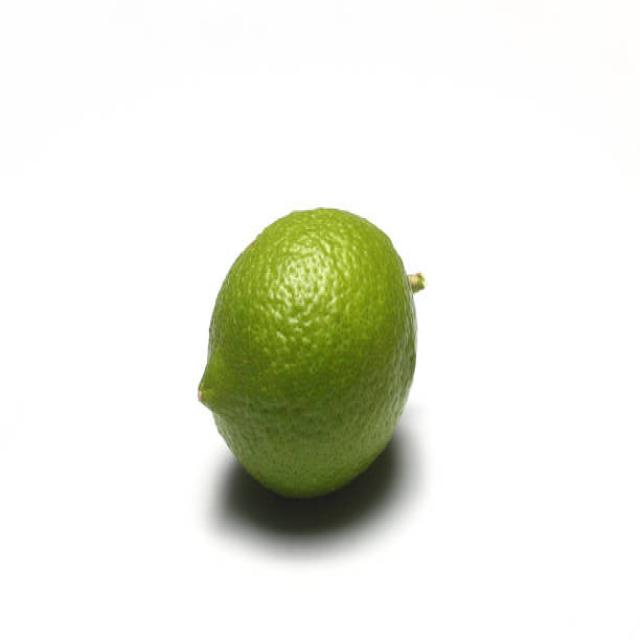Unripe: (196, 205, 418, 502)
